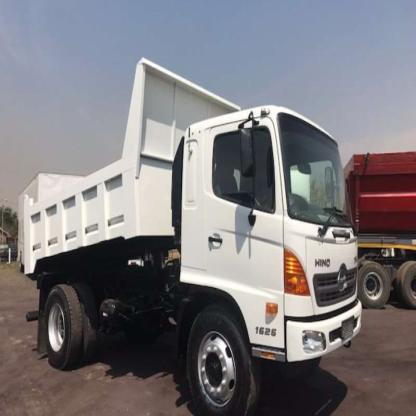dump_truck: (19, 44, 363, 415)
